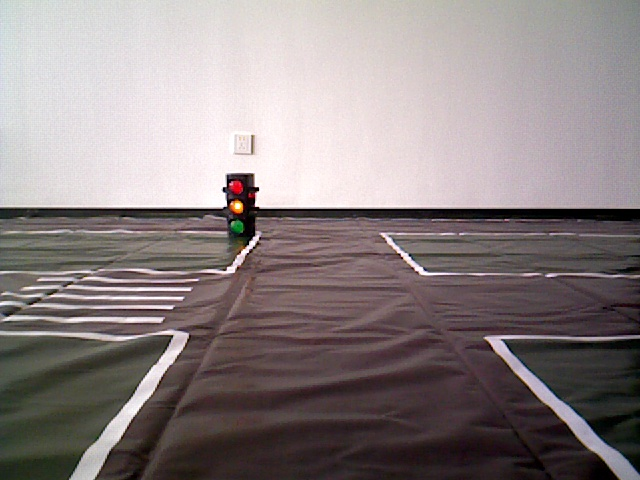yellow: (227, 171, 254, 236)
